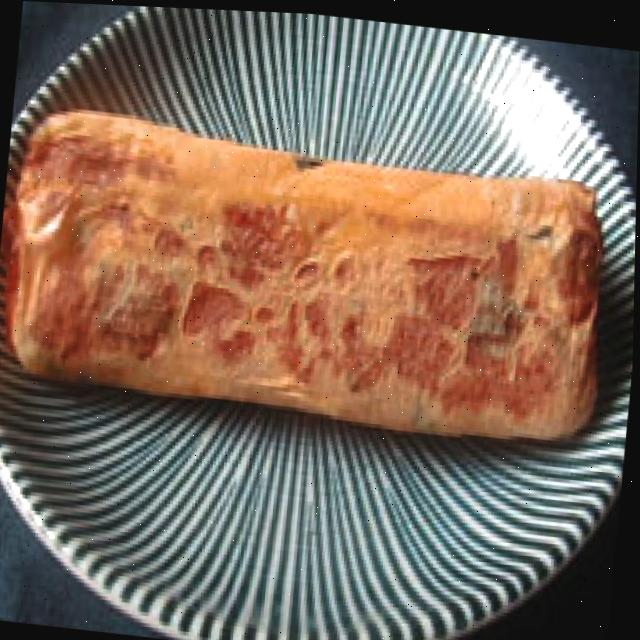鸡蛋料理: (0, 86, 622, 461)
